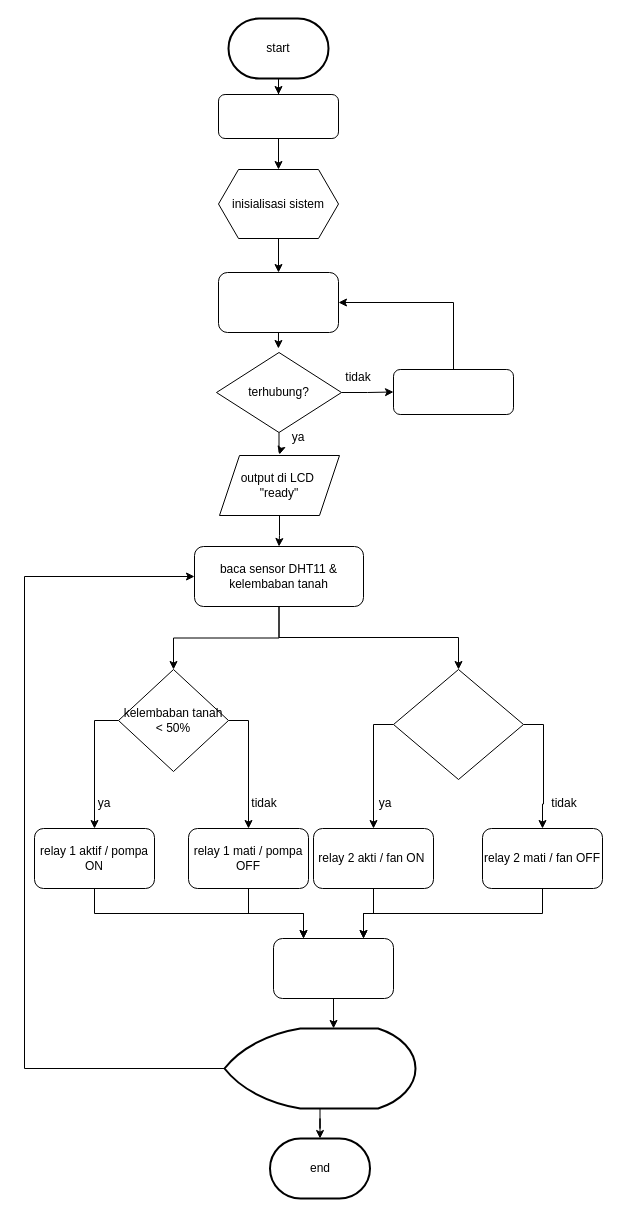
The diagram is 620 pixels wide and 1216 high, and some of its shapes have lost their labels. The shapes that lost their labels are listed below. From the top down, each one's centre as x and y in pixels, then its label:
At (x=278, y=116): "power ON".
At (x=278, y=302): "menghubungkan ke wifi".
At (x=453, y=391): "mengulang koneksi".
At (x=458, y=724): "suhu udara < 28%".
At (x=333, y=968): "kirim ke server cloud".
At (x=319, y=1068): "menampilkan data pada LCD dan Thinkspeak".
